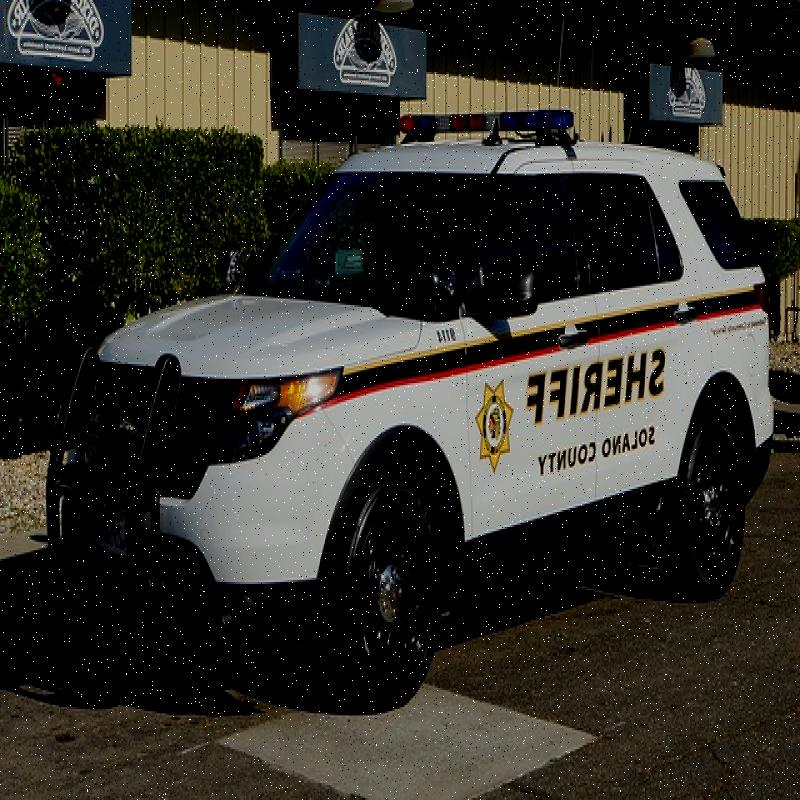AmbulanceSiren: (378, 78, 583, 173)
